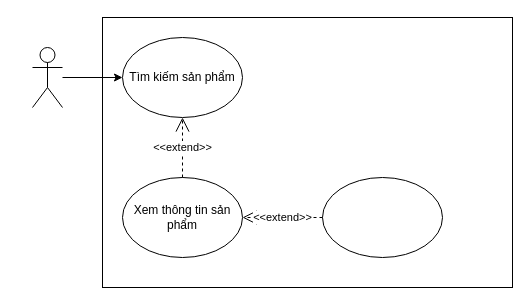
The diagram is 530 pixels wide and 305 high, and some of its shapes have lost their labels. Each missing label, with the box of its shape:
Mua giày: (322, 176, 442, 258)
Người mua: (32, 46, 62, 108)
